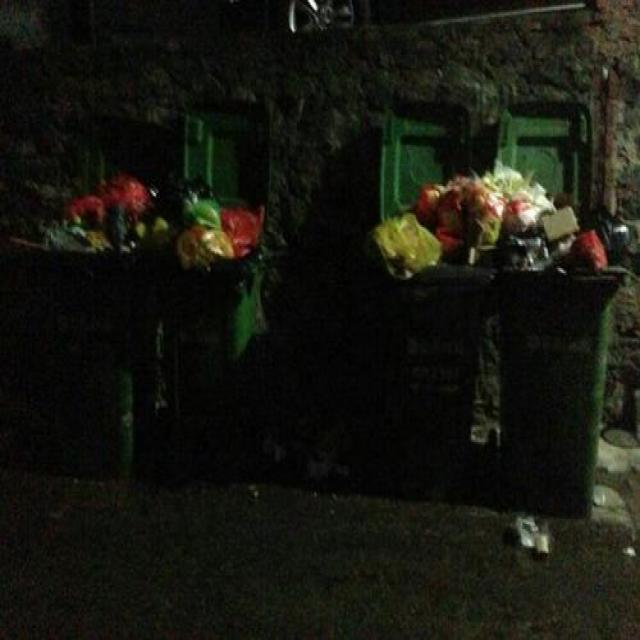overflow: (497, 160, 622, 485), (370, 173, 491, 482), (26, 178, 150, 468), (156, 181, 264, 464)
